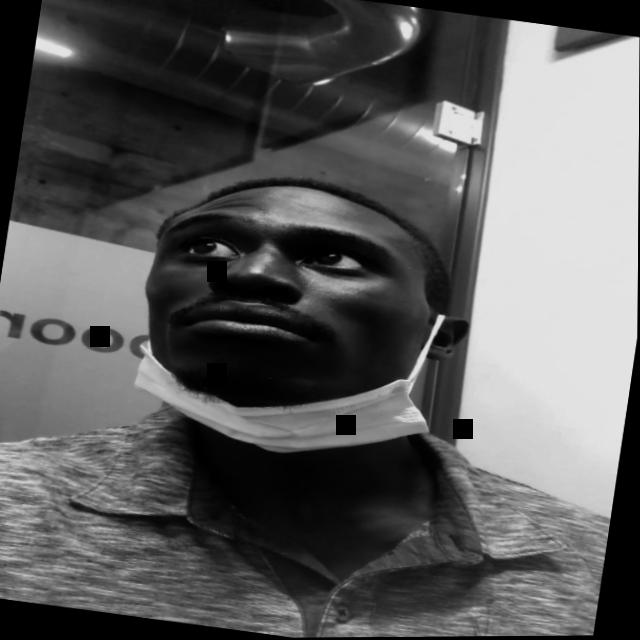NO-Mask: (129, 182, 451, 418)
